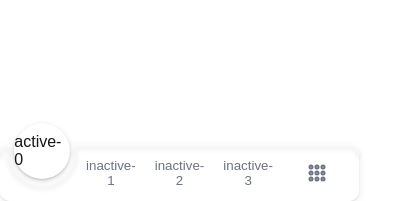
Test: NotchNavbar — More button with notch › clicking More with non-first active tab reverts to that tab on close
Switch to Tab 2 first
Click the tab "inactive-2" at (180, 173), box [145,145,214,200]
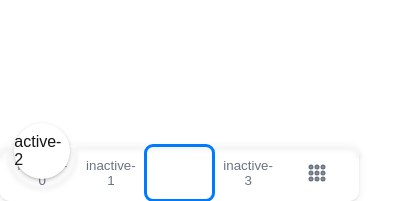
Open More
Click the tab named "More" at (317, 173), box [282,145,351,200]
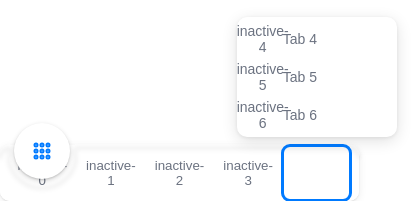
Check: the menu is shown, box [237,17,397,137]
Close via Escape
Press Escape
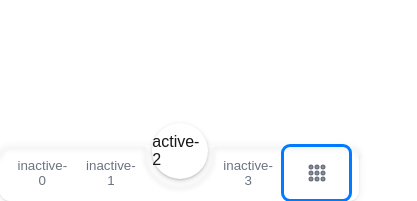
Check: the menu is gone
